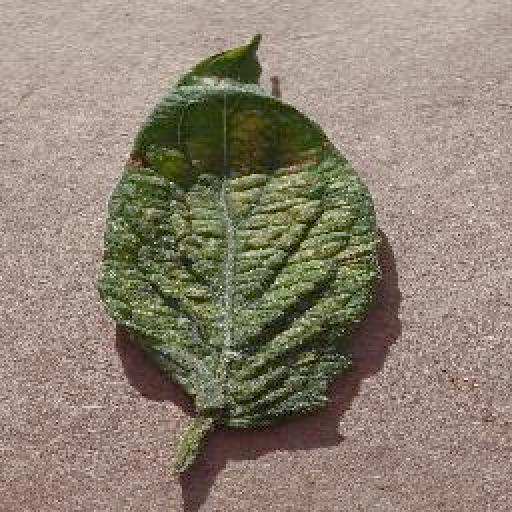disease_tomato: (98, 34, 382, 428)
